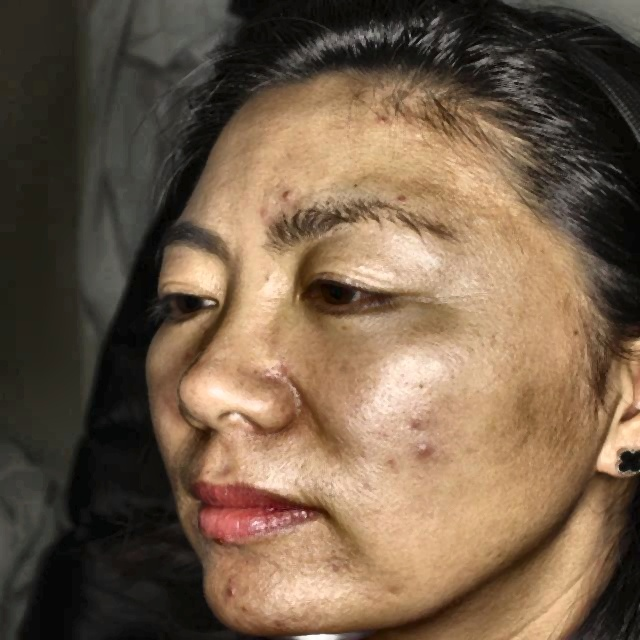comedone: (399, 432, 440, 461), (217, 579, 260, 604), (266, 185, 296, 210), (369, 104, 393, 134)
